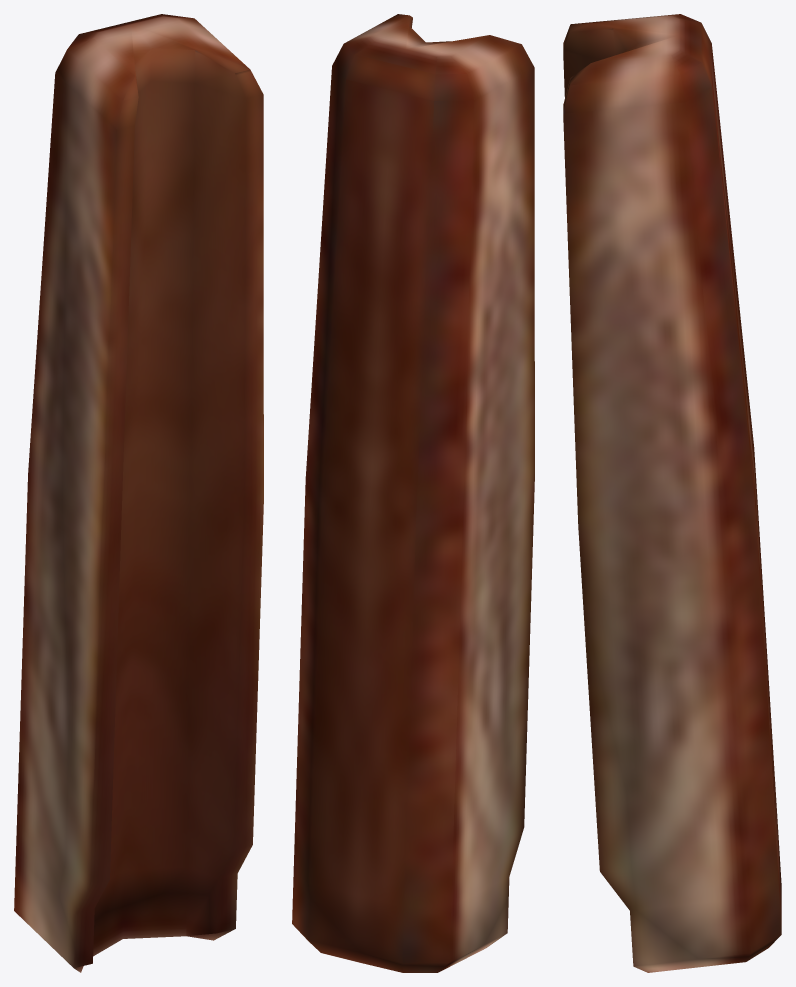
Rendered from Shotgun_PSX_Forestock.fbx.
3 views of the same model, side by side, from view 1: azimuth 30°, elevation 25°; view 2: azimuth 150°, elevation 25°; view 3: azimuth 270°, elevation 25° (orthographic). The views are drawn at different scales.
Visible parts, largest first — view 1: Forestock; view 2: Forestock; view 3: Forestock.
Part boxes in pixels (x1,y1,x2,y2): Forestock: [14, 14, 263, 972]; Forestock: [292, 14, 534, 972]; Forestock: [563, 14, 781, 972].
Size of the model in its own units: 49.44 by 268 by 58.67.
